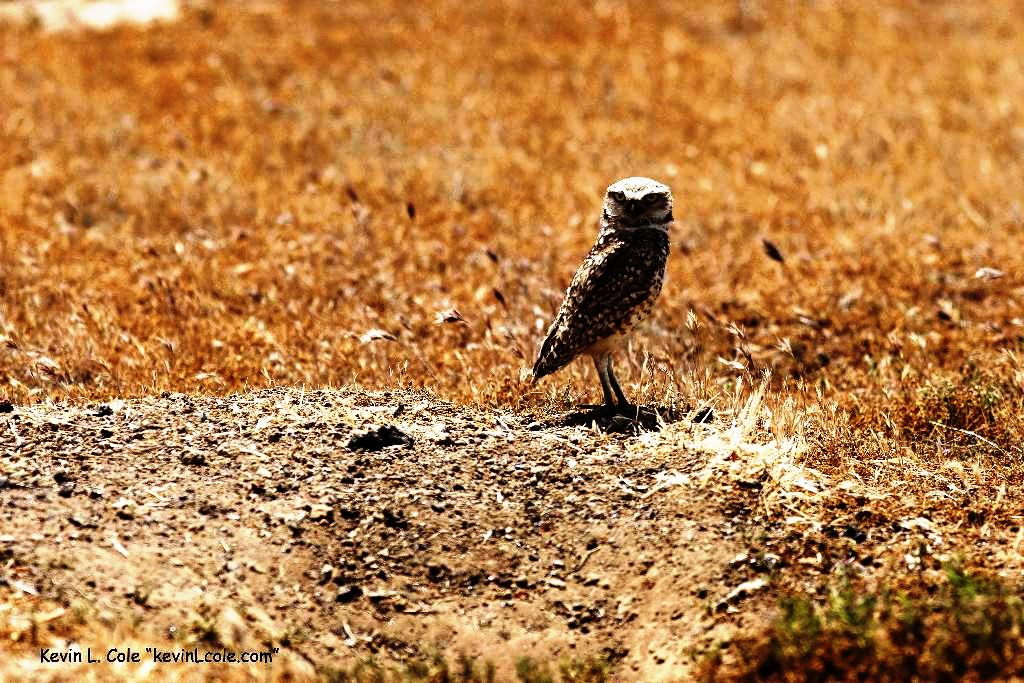Owl: (518, 174, 690, 419)
